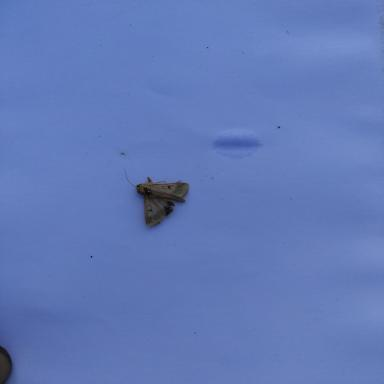abw: (120, 167, 191, 229)
